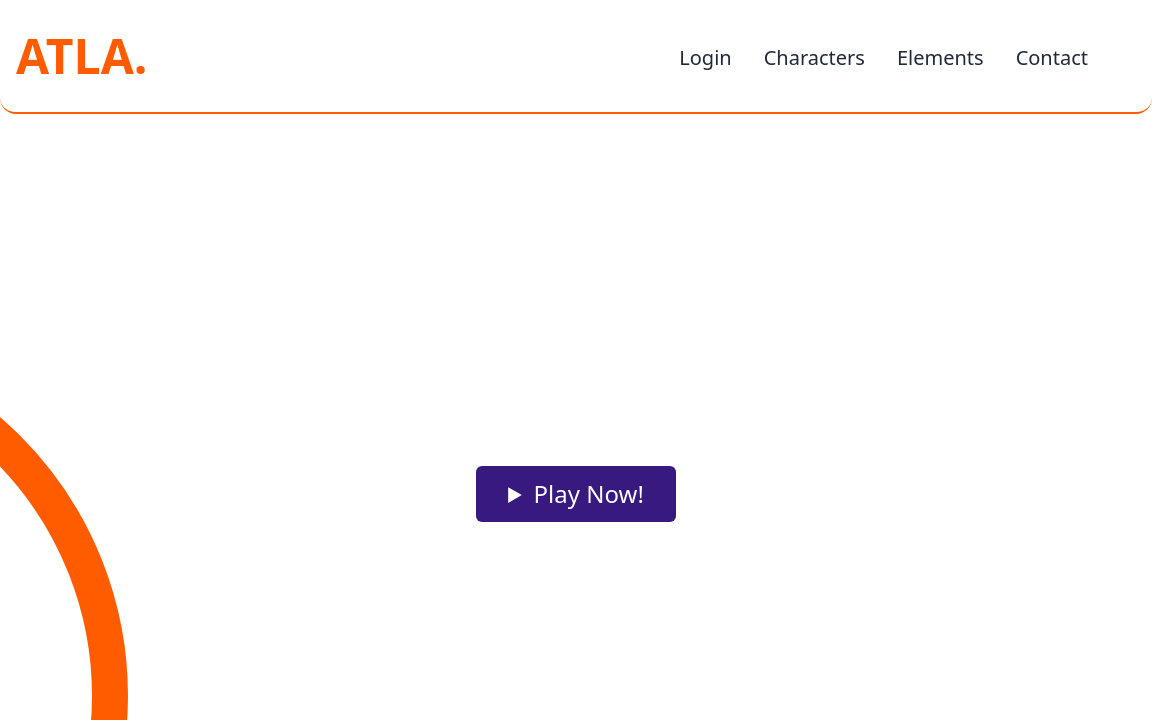
Hero component › contains a download button for mobile
Step 1. Click the heading with test id "button-test" → (576, 494), box [476,466,676,522]
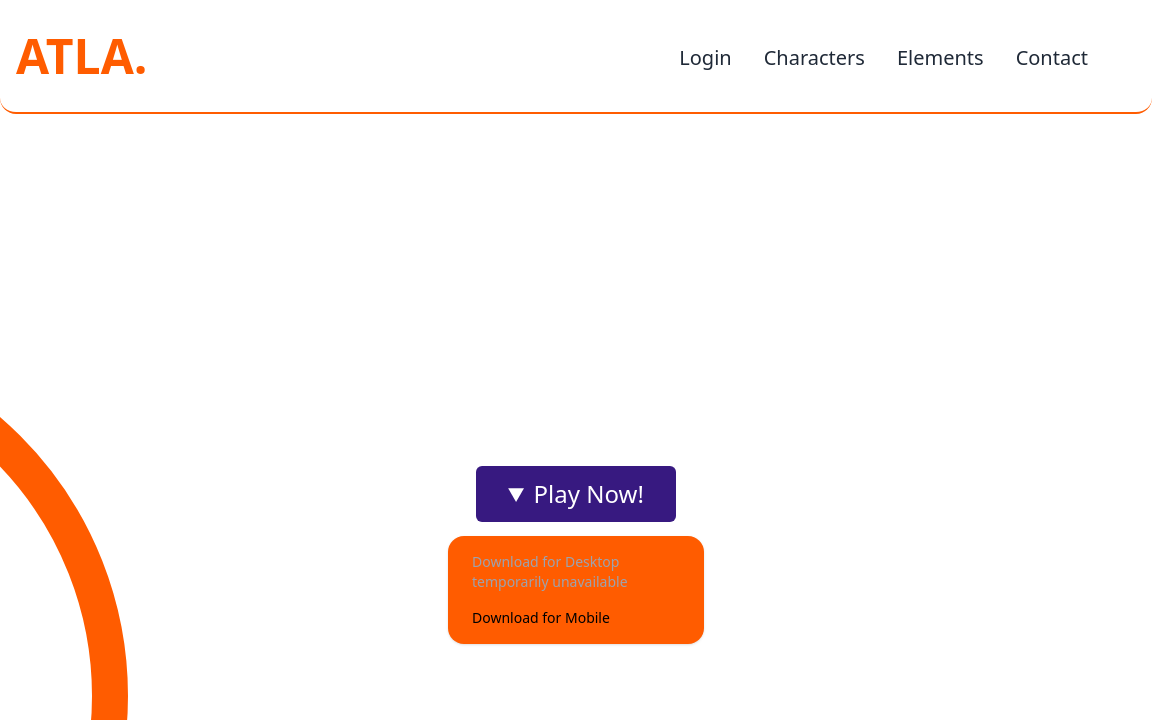
Now the link "Download for Mobile" is shown, box [472,608,610,627]
